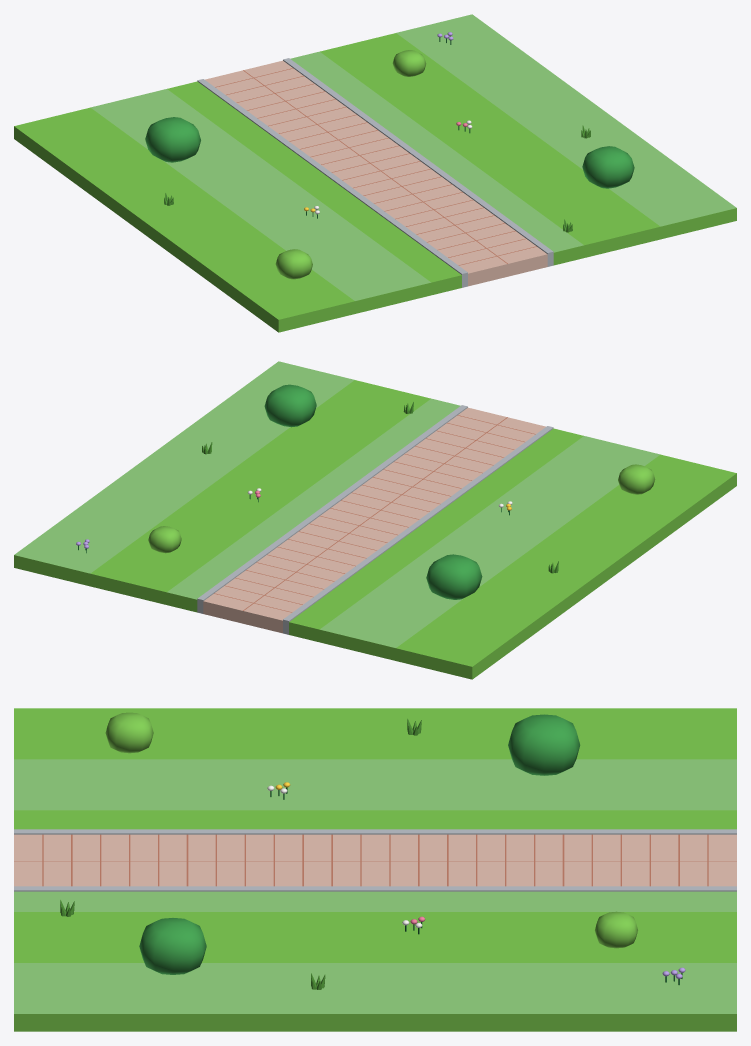
Rendered from piso_grama_caminho.glb.
3 renders of one model, top to bottom at view 1: azimuth 30°, elevation 25°; view 2: azimuth 150°, elevation 25°; view 3: azimuth 270°, elevation 25°, orthographic. The views are drawn at different scales.
Parts seen in each view (by area): view 1: piso_grama_caminho; view 2: piso_grama_caminho; view 3: piso_grama_caminho.
Boxes of the visible parts, left/top/right/bottom form: piso_grama_caminho: left=14, top=14, right=736, bottom=332; piso_grama_caminho: left=14, top=361, right=736, bottom=679; piso_grama_caminho: left=14, top=708, right=736, bottom=1031.
Bounding box in the file's own units: 15 × 1.48 × 15.
1 material, 1 textured.
